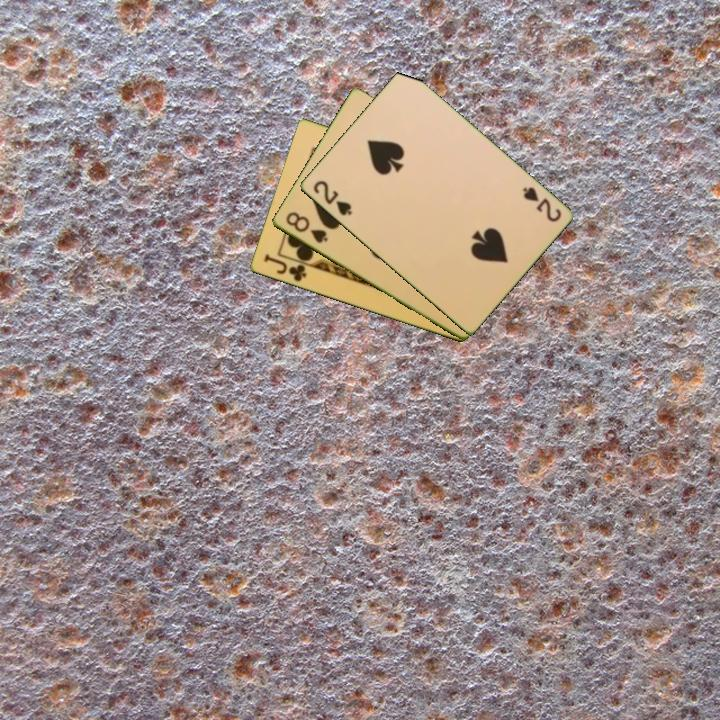2s: (518, 183, 564, 225), (309, 177, 354, 219)
8s: (282, 208, 331, 246)
Jc: (260, 251, 309, 285)
